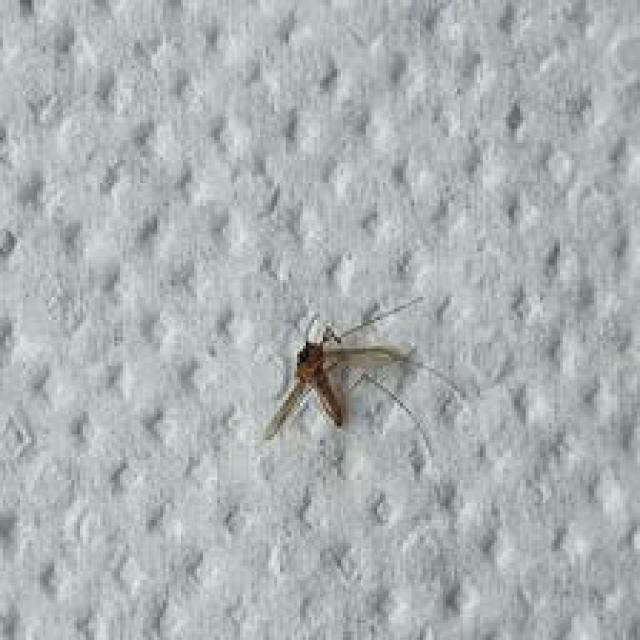Culex: (262, 294, 464, 463)
